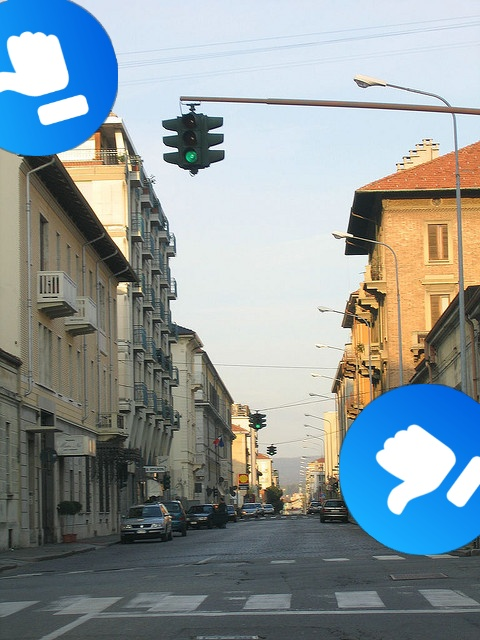like: (339, 384, 480, 555), (0, 0, 118, 156)
